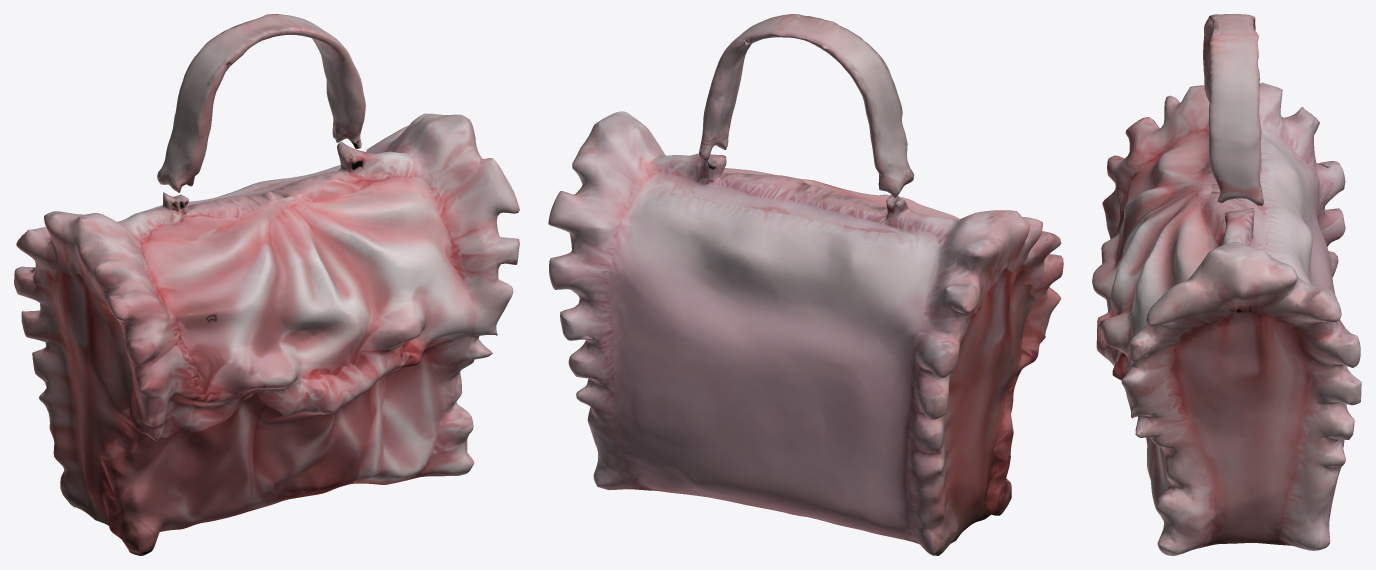
Rendered from Purse.glb.
3 views of the same model, side by side, from view 1: azimuth 30°, elevation 25°; view 2: azimuth 150°, elevation 25°; view 3: azimuth 270°, elevation 25° (orthographic). The views are drawn at different scales.
Bounding box in the file's own units: 1.13 × 1.2 × 0.643.
1 material, 1 textured.
